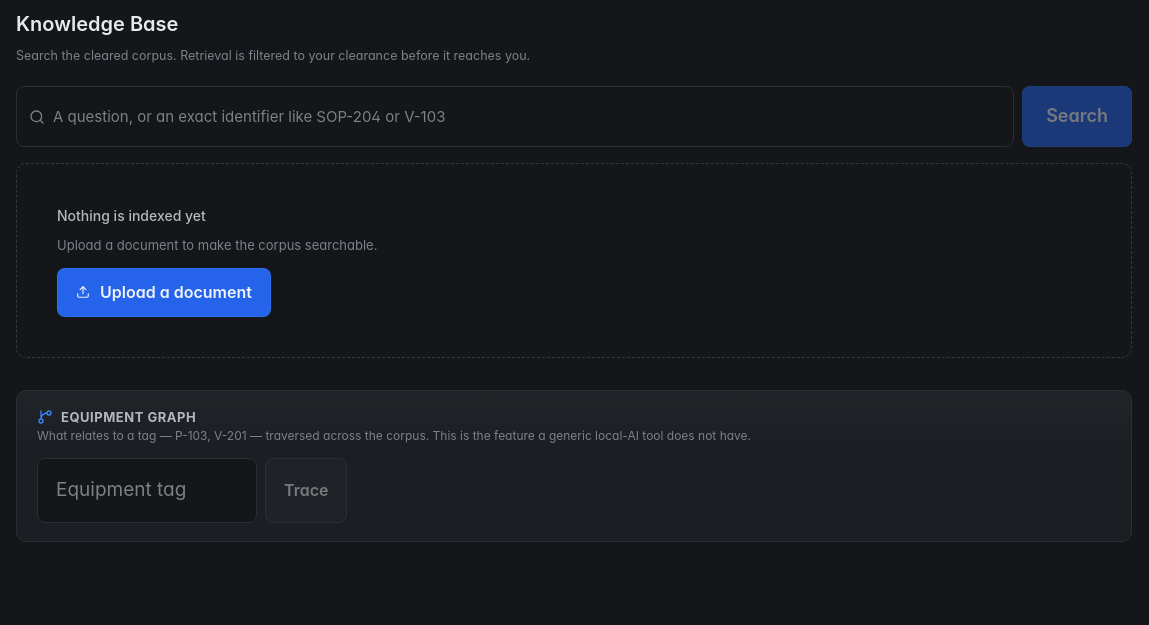
Test: the equipment graph › labels a graph traversal as a real relationship
The width and height of the screenshot is (1149, 625).
Step 1. Type "p-103" into the field with placeholder "Equipment tag" → coordinates (147, 490), box [37, 458, 257, 522]
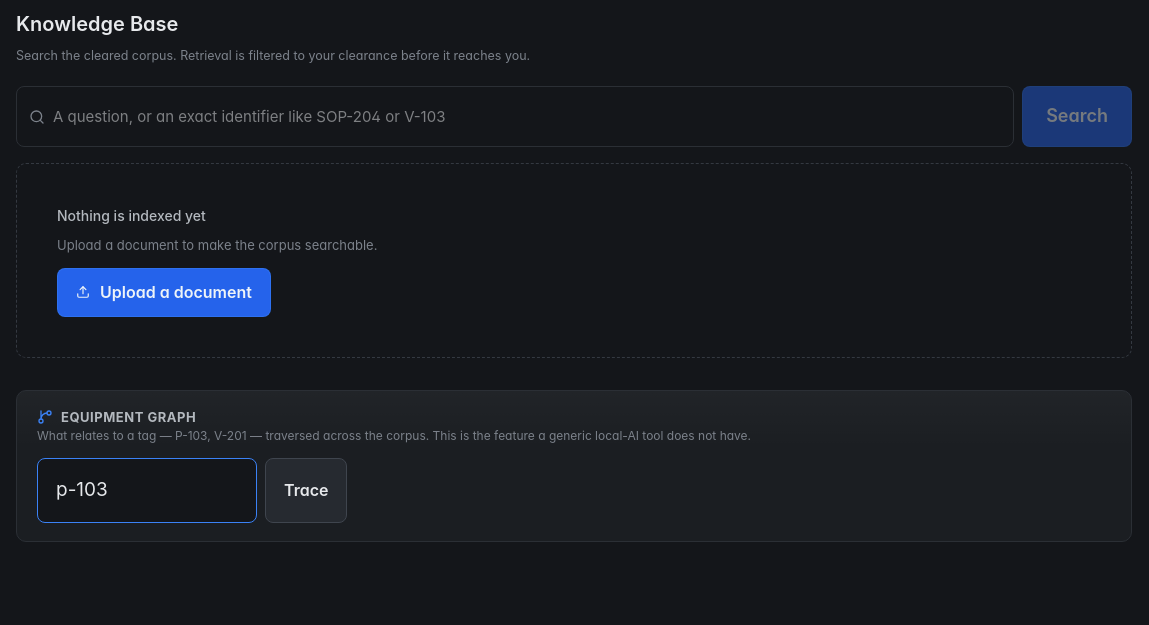
Step 2. Click the button "Trace" → coordinates (306, 490), box [265, 458, 347, 522]
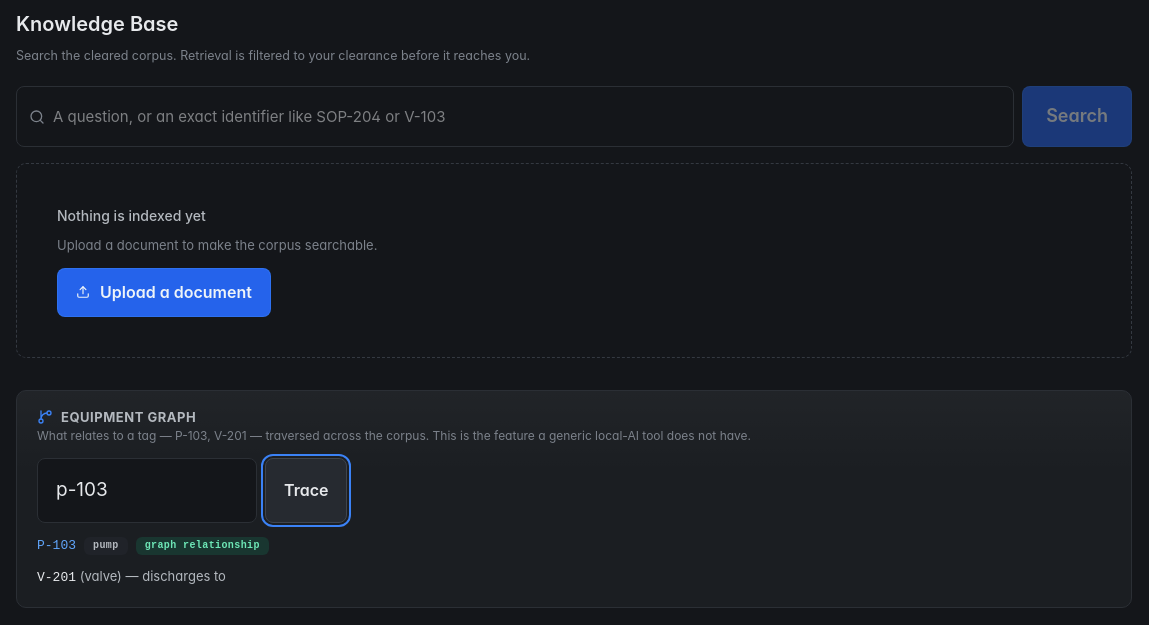
Check: the text "graph relationship" is shown, box [136, 536, 269, 554]
